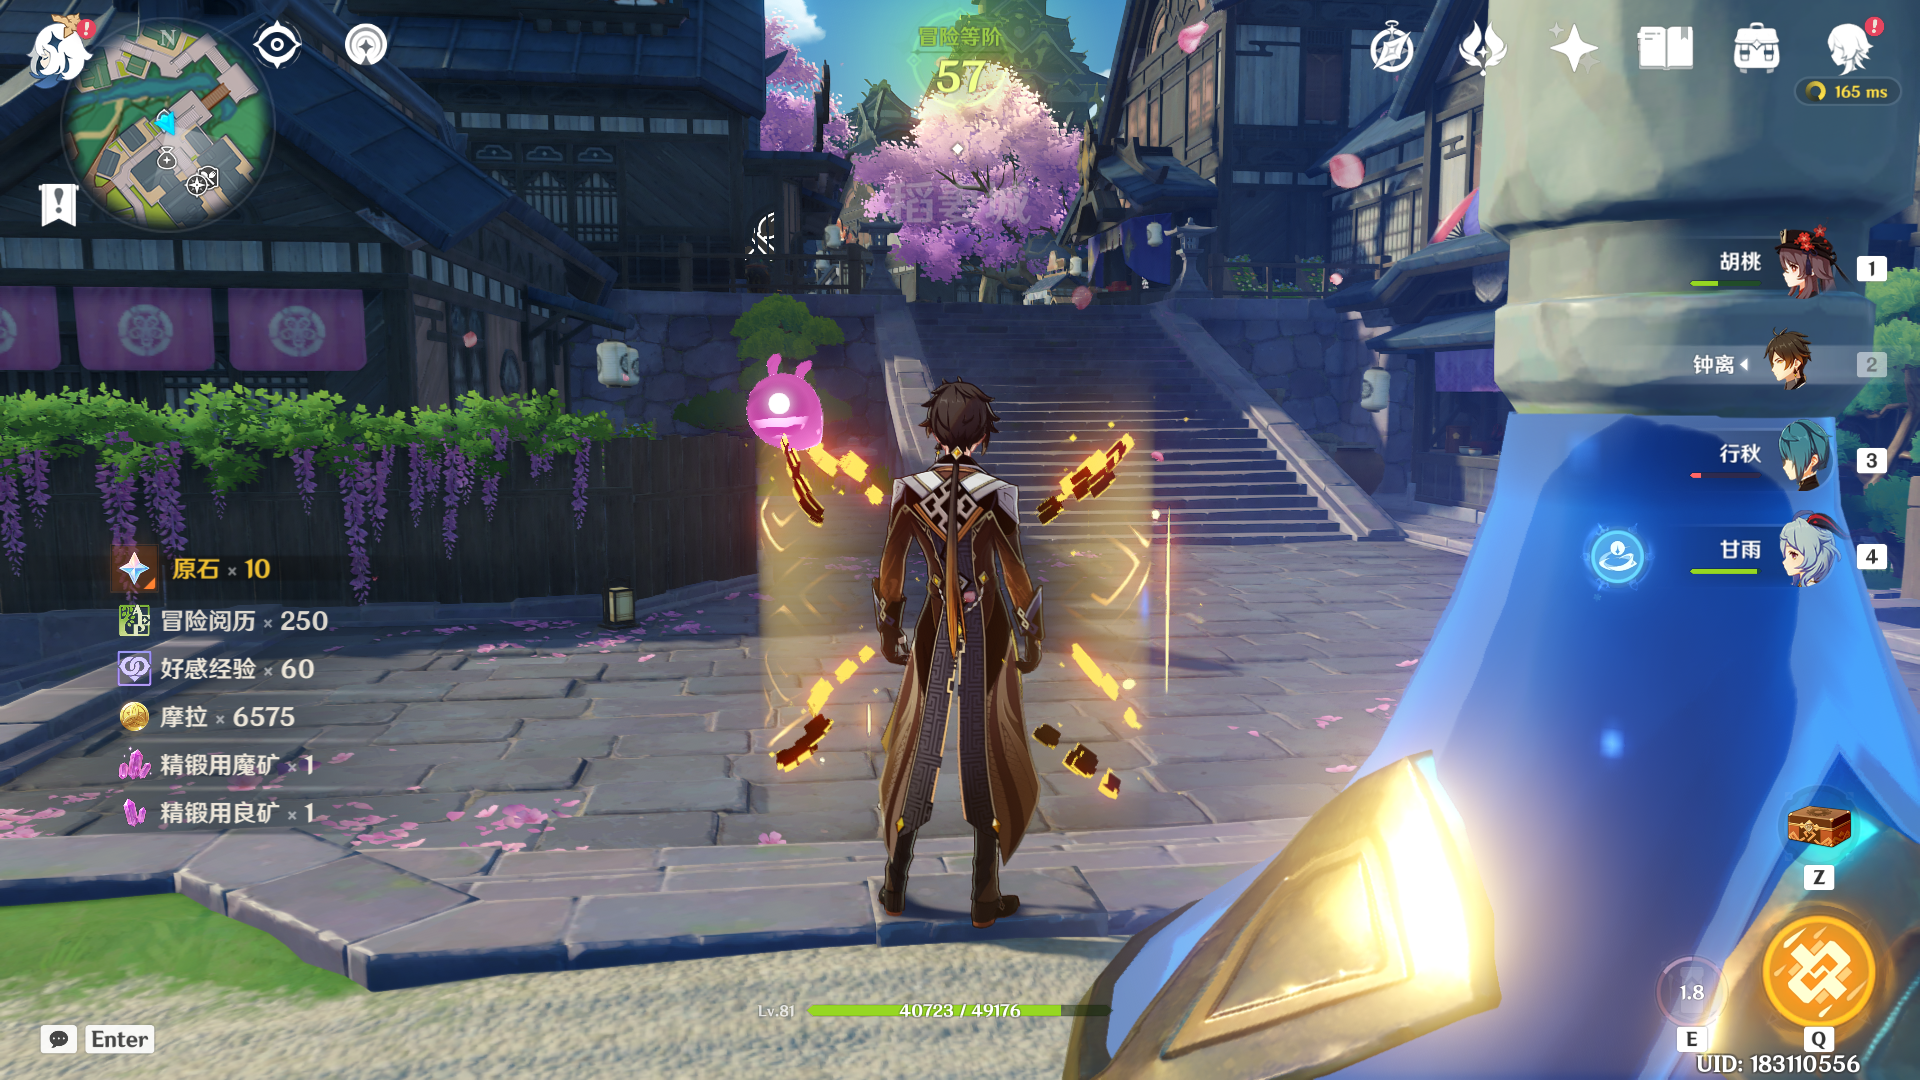character: (698, 323, 1201, 1013)
